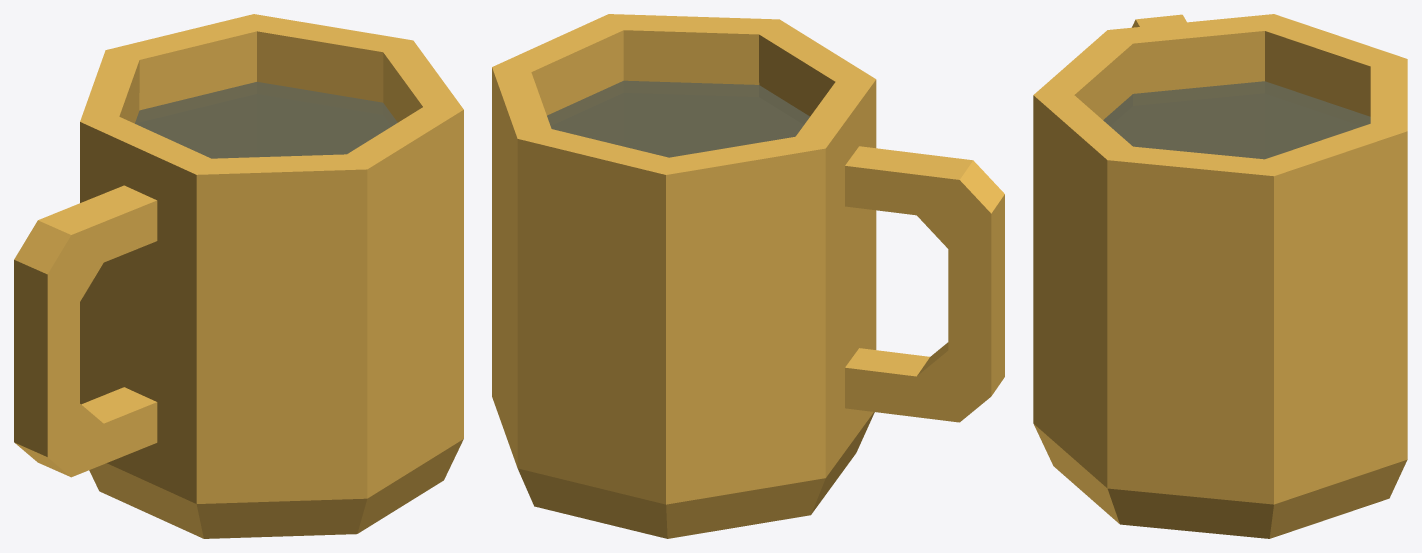
File: full_tea_cupLZ.fbx
3 renders of one model, left to right at view 1: azimuth 30°, elevation 25°; view 2: azimuth 150°, elevation 25°; view 3: azimuth 270°, elevation 25°, orthographic.
Visible parts, largest first — view 1: full_tea_cup; view 2: full_tea_cup; view 3: full_tea_cup.
Boxes of the visible parts, x1=… form: full_tea_cup: x1=14, y1=14, x2=463, y2=538; full_tea_cup: x1=492, y1=14, x2=1004, y2=538; full_tea_cup: x1=1033, y1=14, x2=1407, y2=538.
Size of the model in its own units: 0.1734 by 0.1255 by 0.1373.
Materials: 2 (1 with a texture image).
